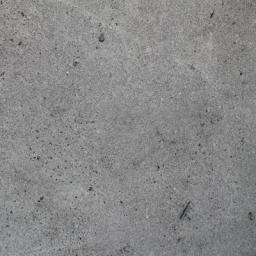FOD: (178, 199, 194, 224)
